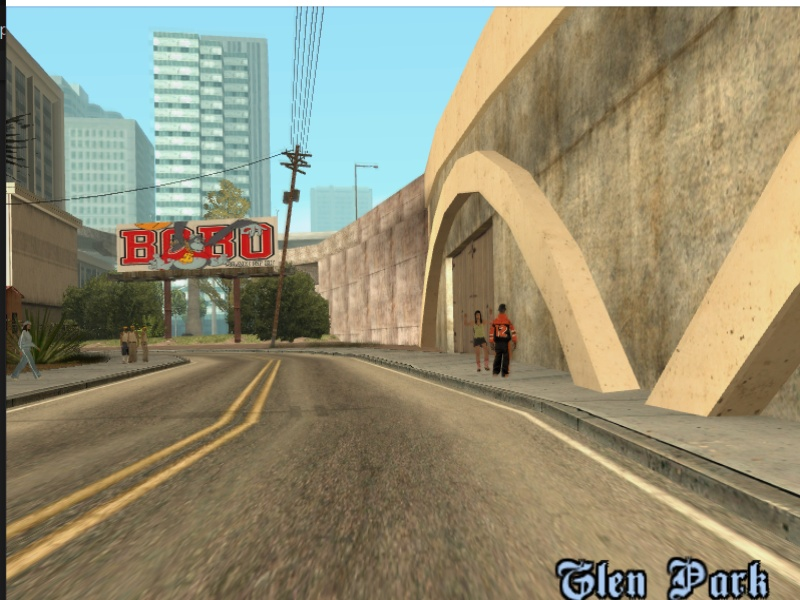person: (493, 304, 521, 377), (16, 320, 47, 382), (462, 308, 489, 372), (138, 323, 154, 365), (126, 325, 140, 362), (116, 322, 128, 360)
pole: (262, 149, 310, 349), (226, 277, 248, 344), (162, 280, 175, 340)
